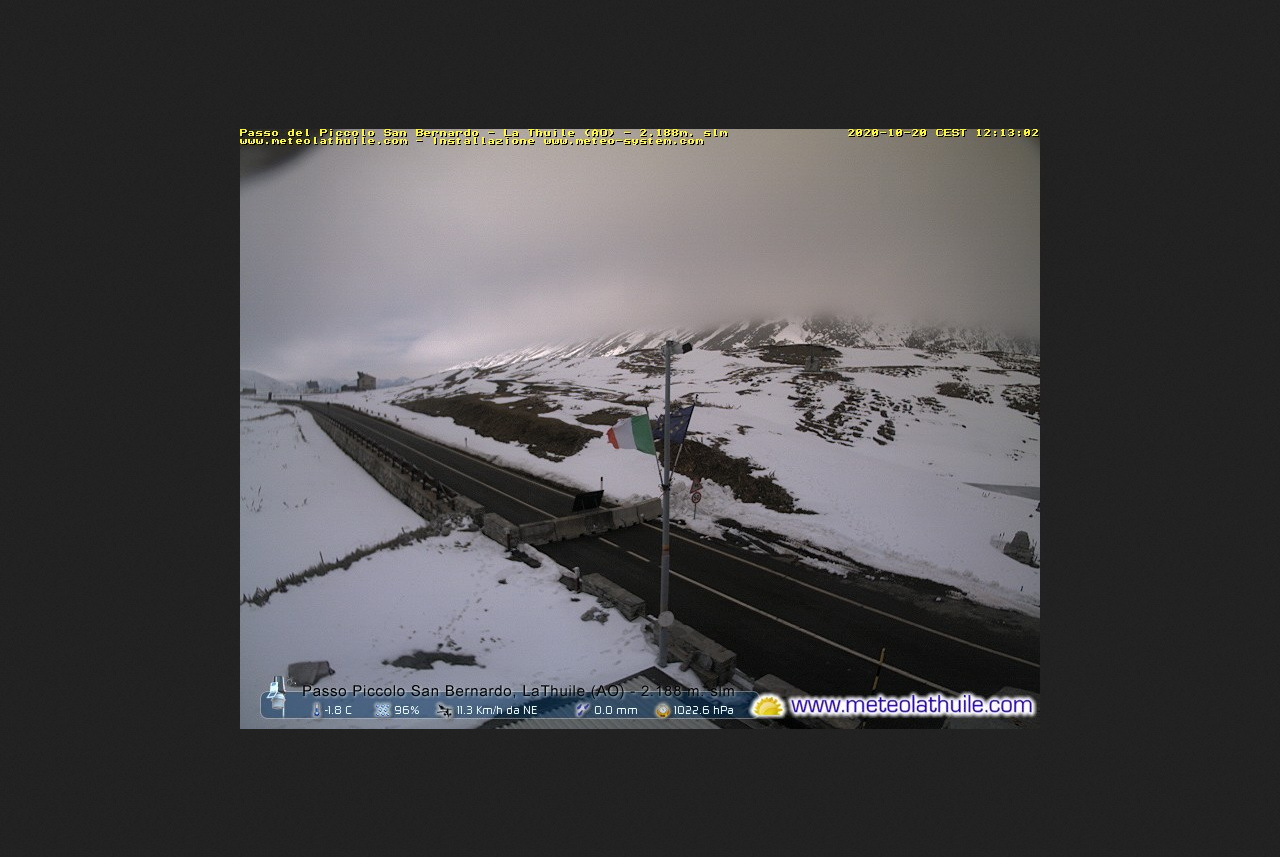yes: (606, 416, 653, 453), (655, 408, 690, 446)
